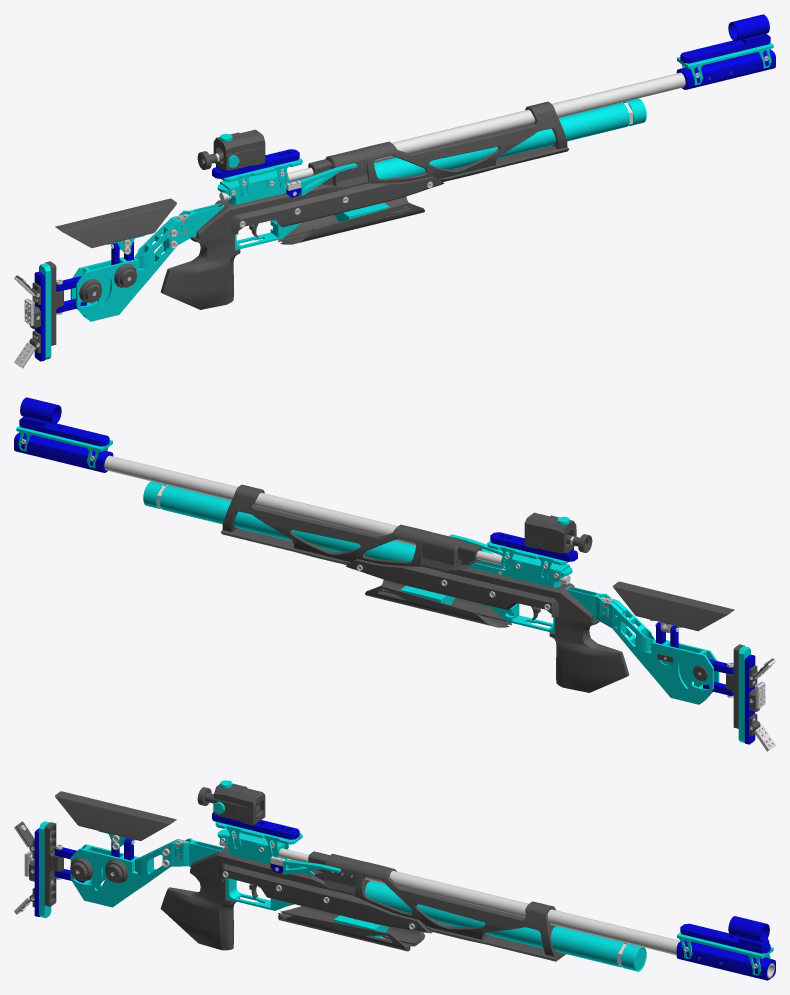
The model's file is Feinwerkbau 800x.fbx.
3 views of the same model, one above another, from view 1: azimuth 30°, elevation 25°; view 2: azimuth 150°, elevation 25°; view 3: azimuth 330°, elevation 25° (orthographic).
Parts seen in each view (by area): view 1: Feinwerkbau800x; view 2: Feinwerkbau800x; view 3: Feinwerkbau800x.
Part boxes in pixels (x1,y1,x2,y2): Feinwerkbau800x: (14, 14, 775, 368); Feinwerkbau800x: (14, 397, 775, 751); Feinwerkbau800x: (14, 780, 775, 980).
Bounding box in the file's own units: 122 × 27.9 × 5.62.
